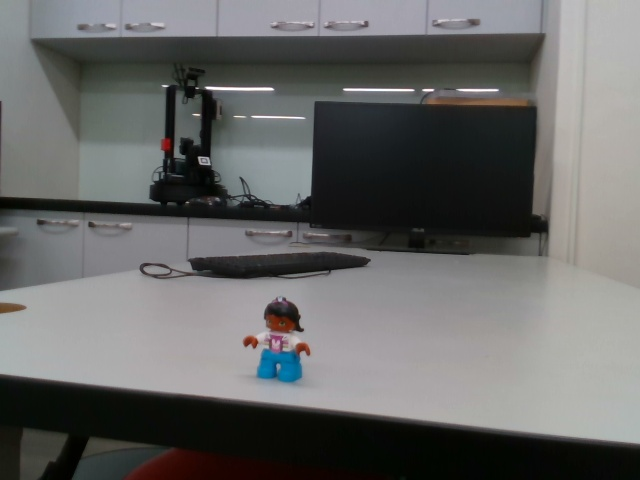people: (241, 294, 316, 386)
